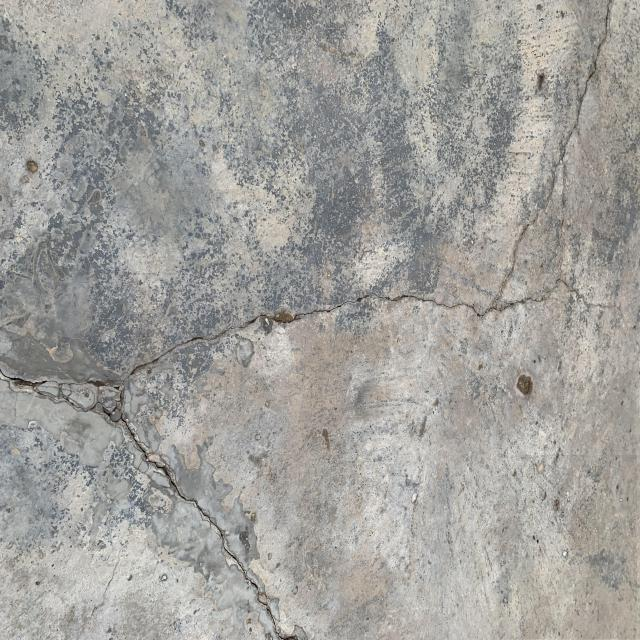multi-branched crack: (0, 3, 622, 640)
